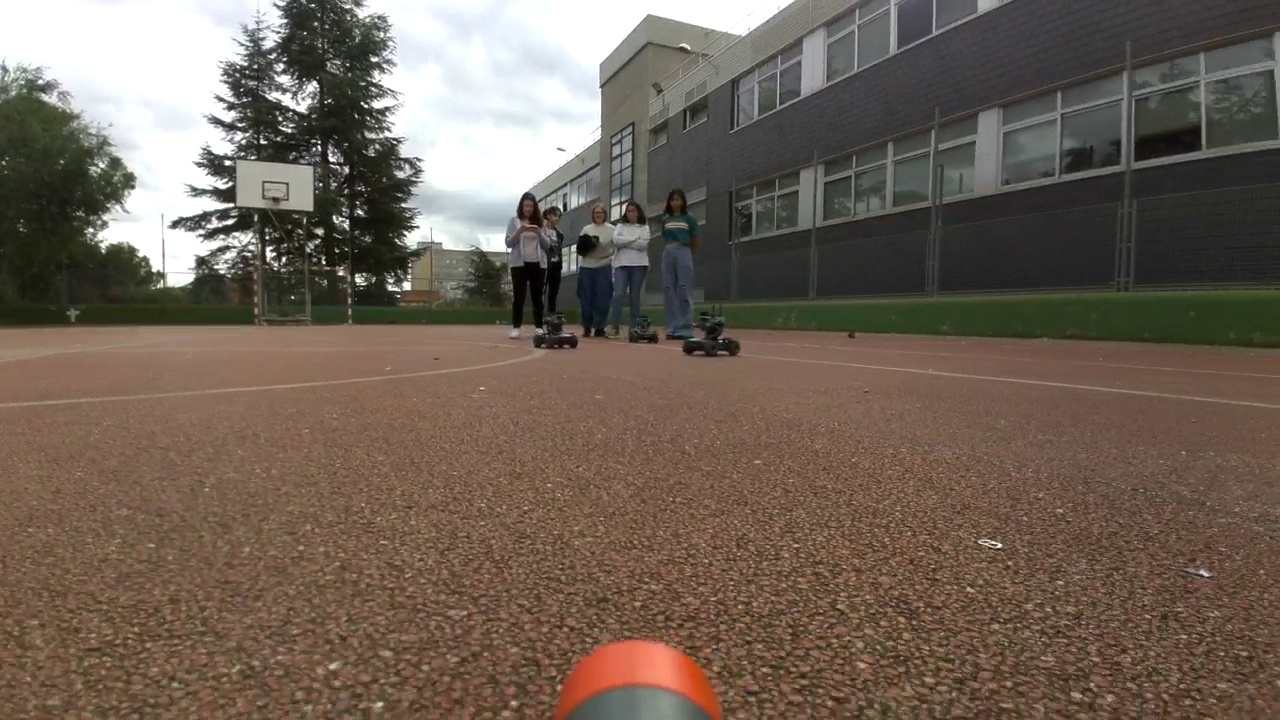robot: (684, 313, 740, 355), (532, 313, 576, 350), (630, 314, 656, 341)
